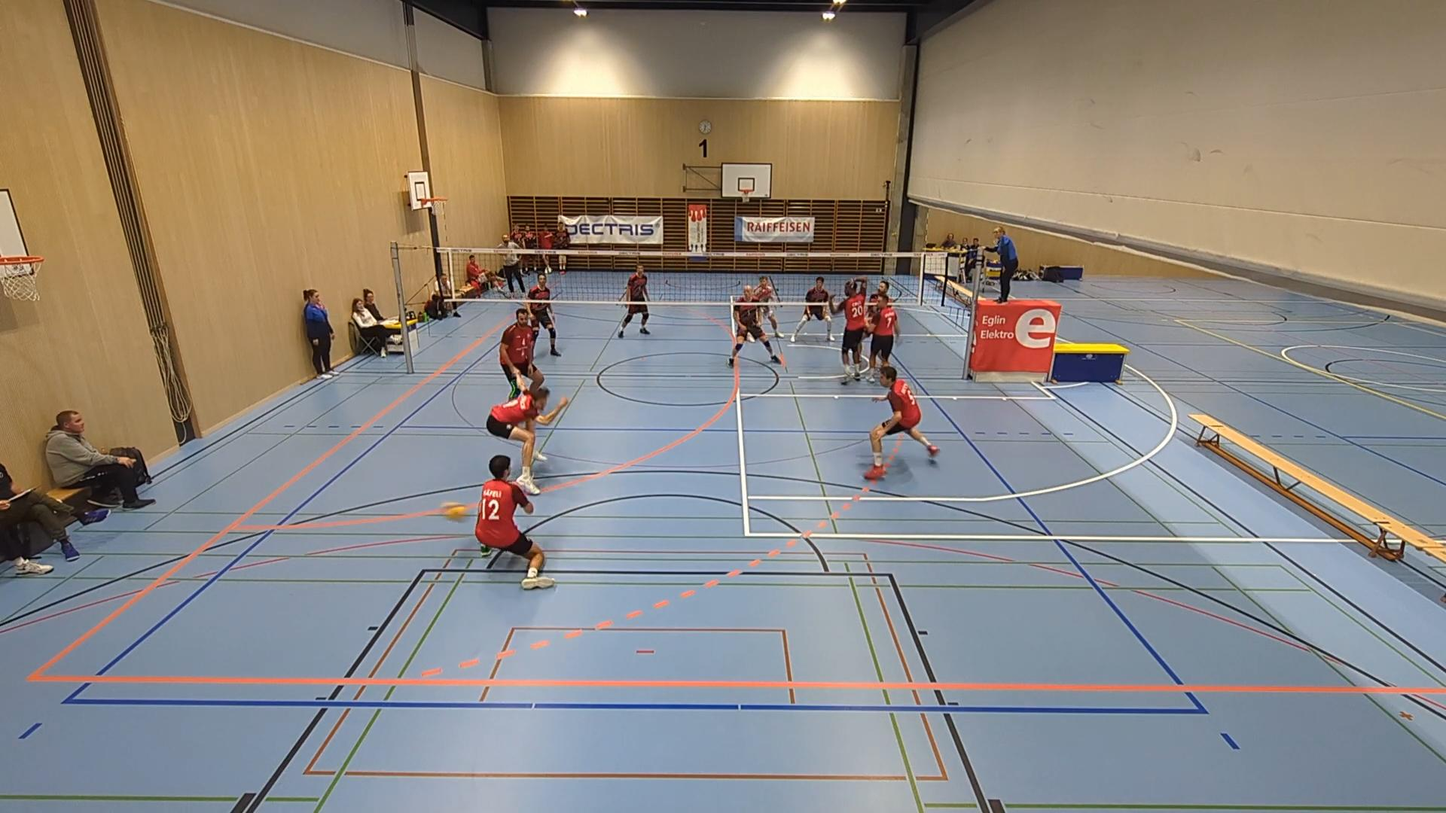Dig: (474, 451, 554, 589)
Player: (487, 386, 568, 494), (864, 365, 938, 480), (728, 287, 780, 367), (499, 307, 544, 398), (831, 280, 866, 384), (529, 272, 560, 356), (792, 276, 831, 341), (868, 291, 896, 378), (618, 263, 649, 337), (754, 275, 781, 337), (868, 280, 891, 318)
ball: (441, 499, 477, 519)
